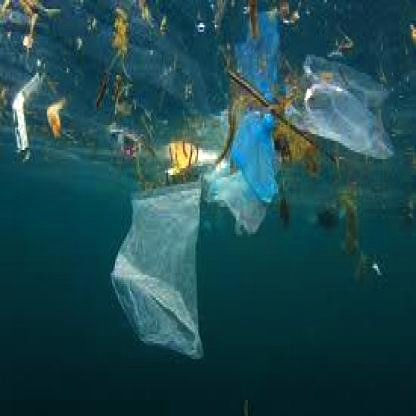pbag: (110, 177, 206, 364), (200, 107, 283, 236), (281, 82, 398, 161)
